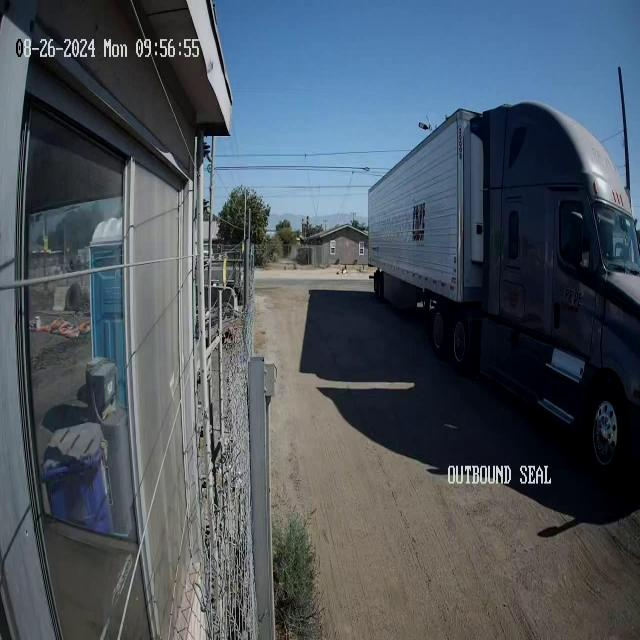CONTAINER: (367, 99, 490, 309)
